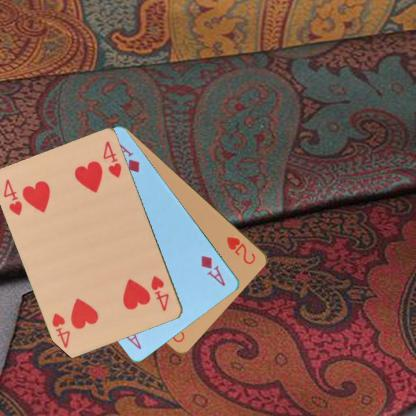2h: (224, 233, 257, 266)
4h: (1, 176, 24, 216), (149, 273, 171, 313)
Ad: (198, 252, 227, 288)
